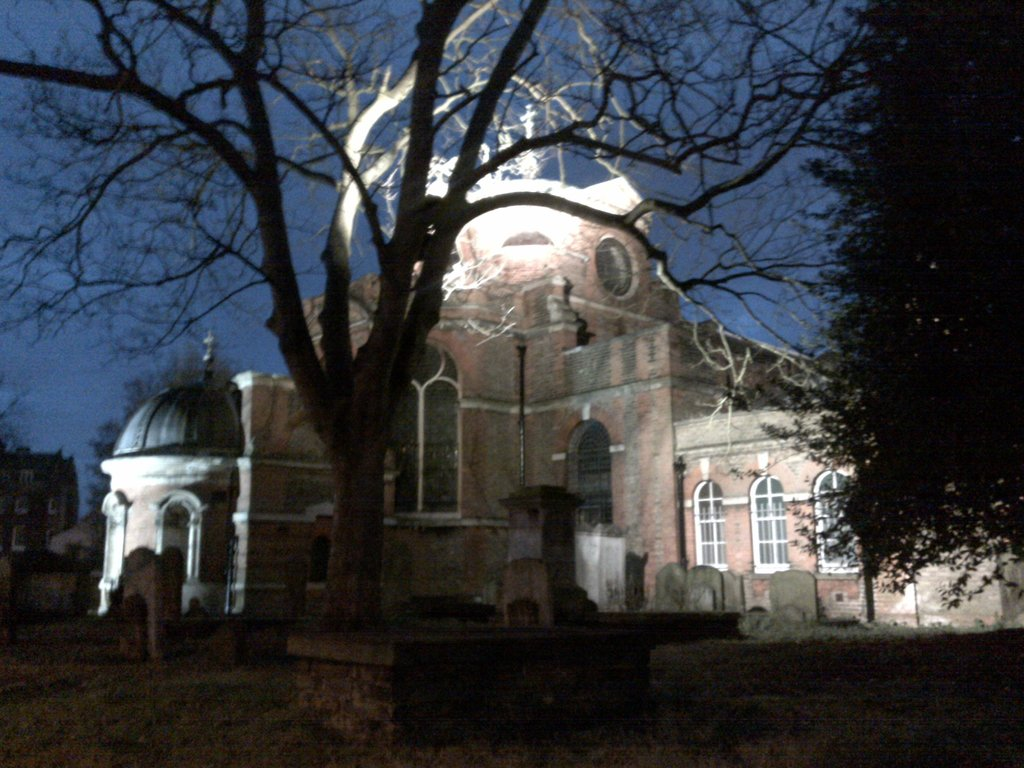Tree: (37, 0, 968, 670)
